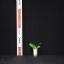leaf: (29, 43, 35, 49), (35, 43, 41, 48), (35, 46, 40, 48), (33, 45, 35, 48)
